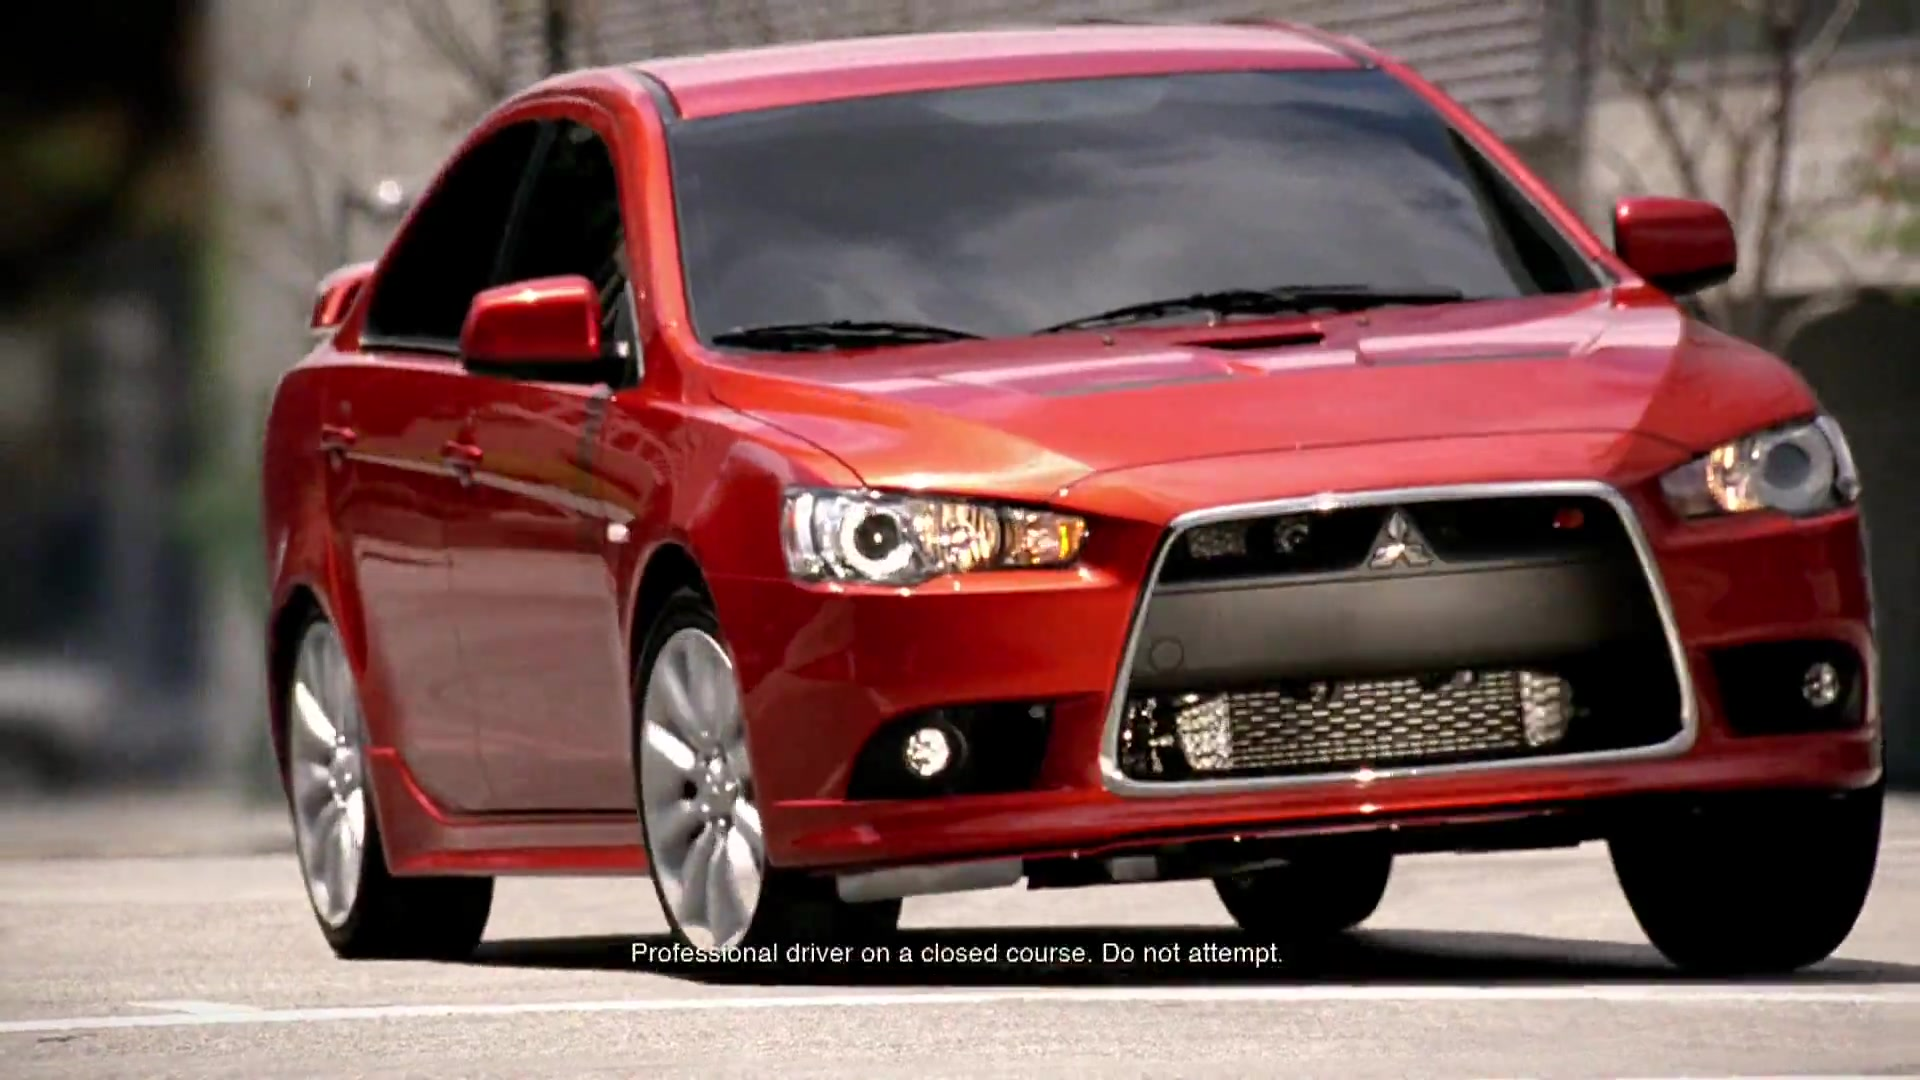car: (258, 15, 1887, 978)
